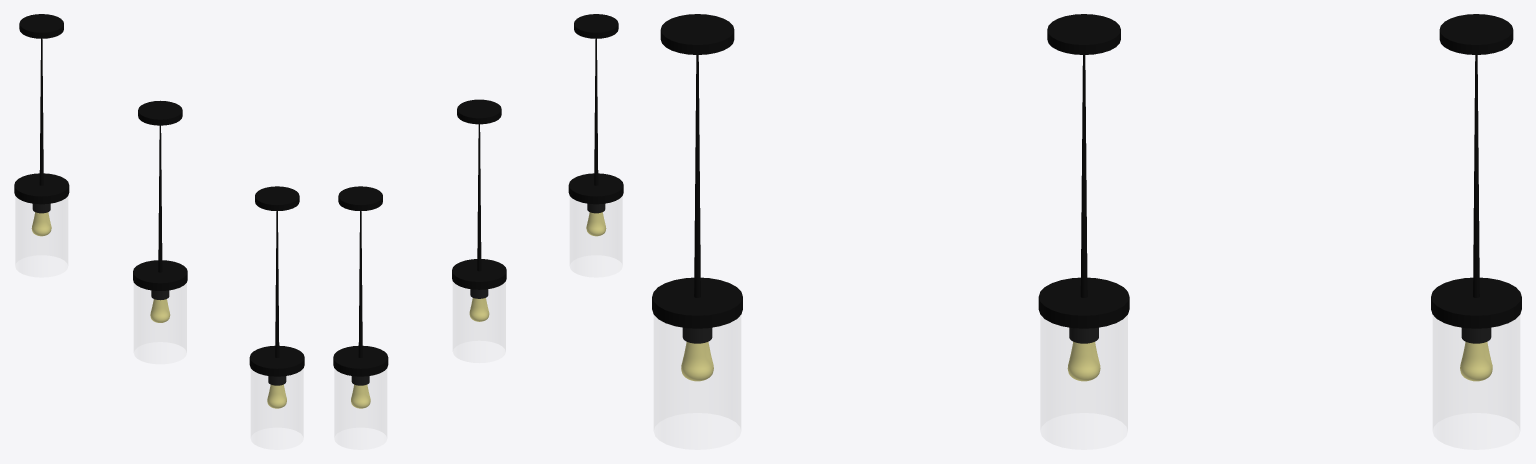
The model's file is 2345_kitchen_Light_ZireMidnightBlack.gltf.
3 renders of one model, left to right at view 1: azimuth 30°, elevation 25°; view 2: azimuth 150°, elevation 25°; view 3: azimuth 270°, elevation 25°, orthographic. The views are drawn at different scales.
Parts seen in each view (by area): view 1: Zire Midnight Black; view 2: Zire Midnight Black; view 3: Zire Midnight Black.
Boxes of the visible parts, <box> form: Zire Midnight Black: <box>14,14,304,435</box>; Zire Midnight Black: <box>333,14,623,435</box>; Zire Midnight Black: <box>652,14,1521,429</box>.
Bounding box in the file's own units: 0.2338 × 1.14 × 2.24.
